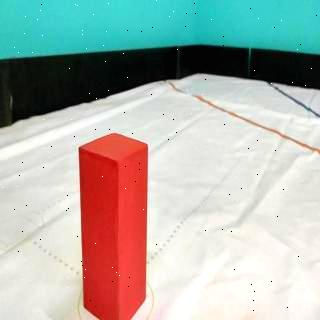redbox: (78, 131, 148, 320)
